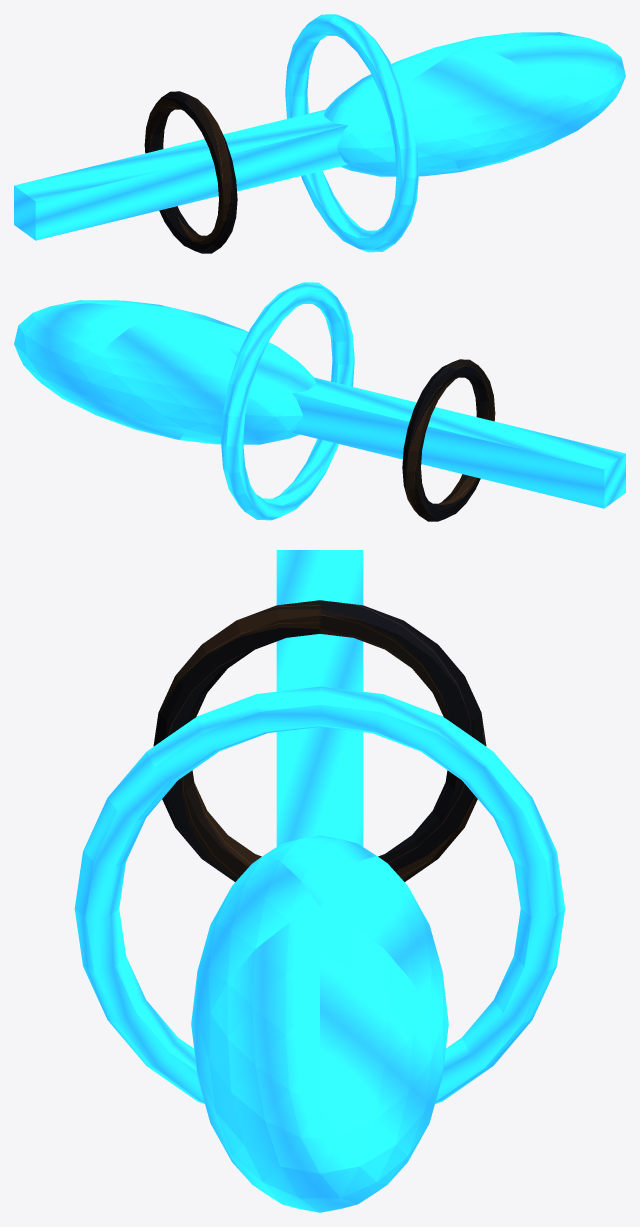
File: ranged-bolt.glb
3 views of the same model, one above another, from view 1: azimuth 30°, elevation 25°; view 2: azimuth 150°, elevation 25°; view 3: azimuth 270°, elevation 25° (orthographic). The views are drawn at different scales.
Parts seen in each view (by area): view 1: bolt-head, bolt-trail, bolt-ring-a, bolt-ring-b; view 2: bolt-head, bolt-trail, bolt-ring-a, bolt-ring-b; view 3: bolt-head, bolt-ring-a, bolt-ring-b, bolt-trail.
Part boxes in pixels (x1=…): bolt-head: x1=324, y1=32, x2=625, y2=176; bolt-trail: x1=14, y1=109, x2=347, y2=240; bolt-ring-a: x1=285, y1=14, x2=418, y2=252; bolt-ring-b: x1=144, y1=91, x2=237, y2=253; bolt-head: x1=14, y1=300, x2=315, y2=444; bolt-trail: x1=292, y1=377, x2=625, y2=508; bolt-ring-a: x1=221, y1=282, x2=354, y2=520; bolt-ring-b: x1=402, y1=359, x2=495, y2=521; bolt-head: x1=191, y1=835, x2=448, y2=1212; bolt-ring-a: x1=74, y1=686, x2=565, y2=1103; bolt-ring-b: x1=153, y1=600, x2=486, y2=881; bolt-trail: x1=276, y1=550, x2=363, y2=846.
Size of the model in its own units: 0.4464 by 0.1584 by 0.1584.
Materials: 2 (2 with a texture image).
